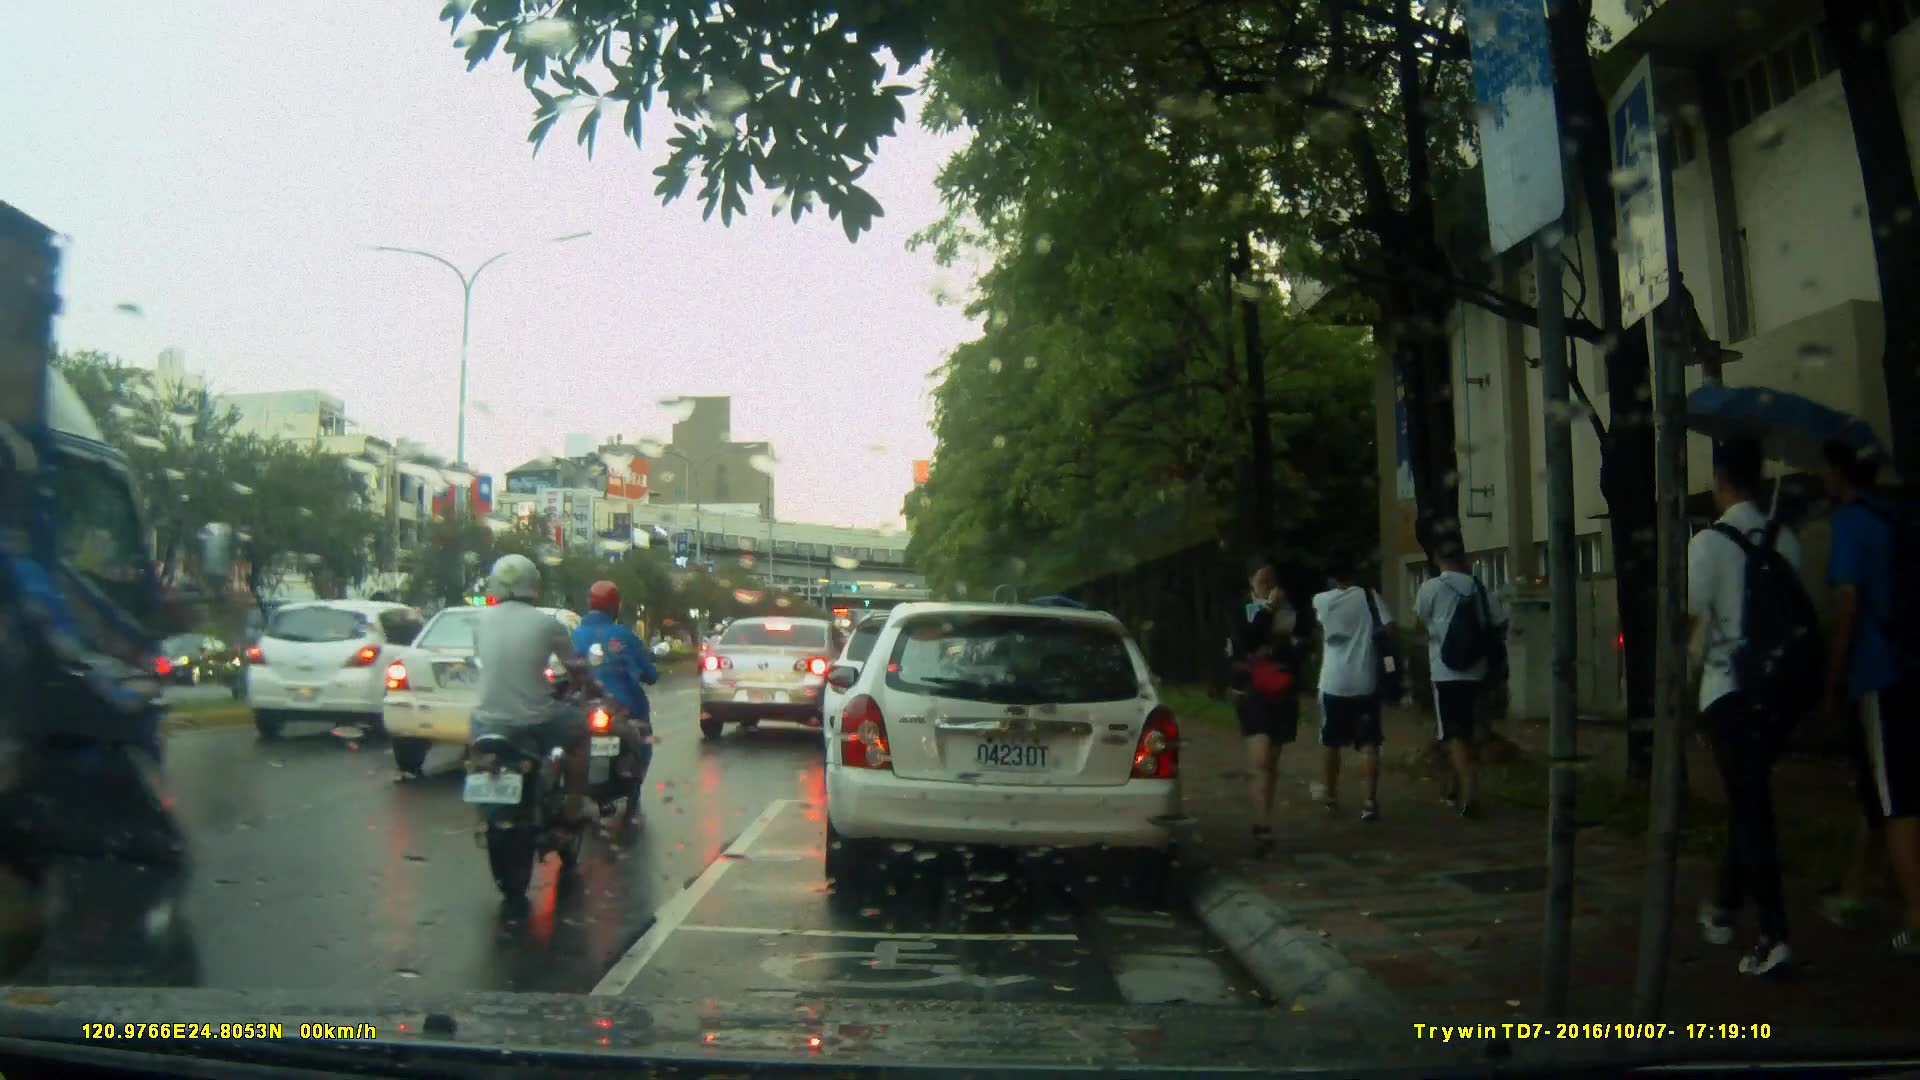pedestrian: (1646, 423, 1794, 964), (1778, 410, 1916, 956), (1402, 518, 1504, 829), (1229, 558, 1322, 860), (1295, 553, 1381, 827)
rider: (1, 417, 199, 1059), (469, 550, 598, 882), (565, 582, 672, 810)
vehicle: (820, 602, 1188, 898), (371, 603, 643, 784), (244, 598, 458, 746), (695, 614, 878, 742)
